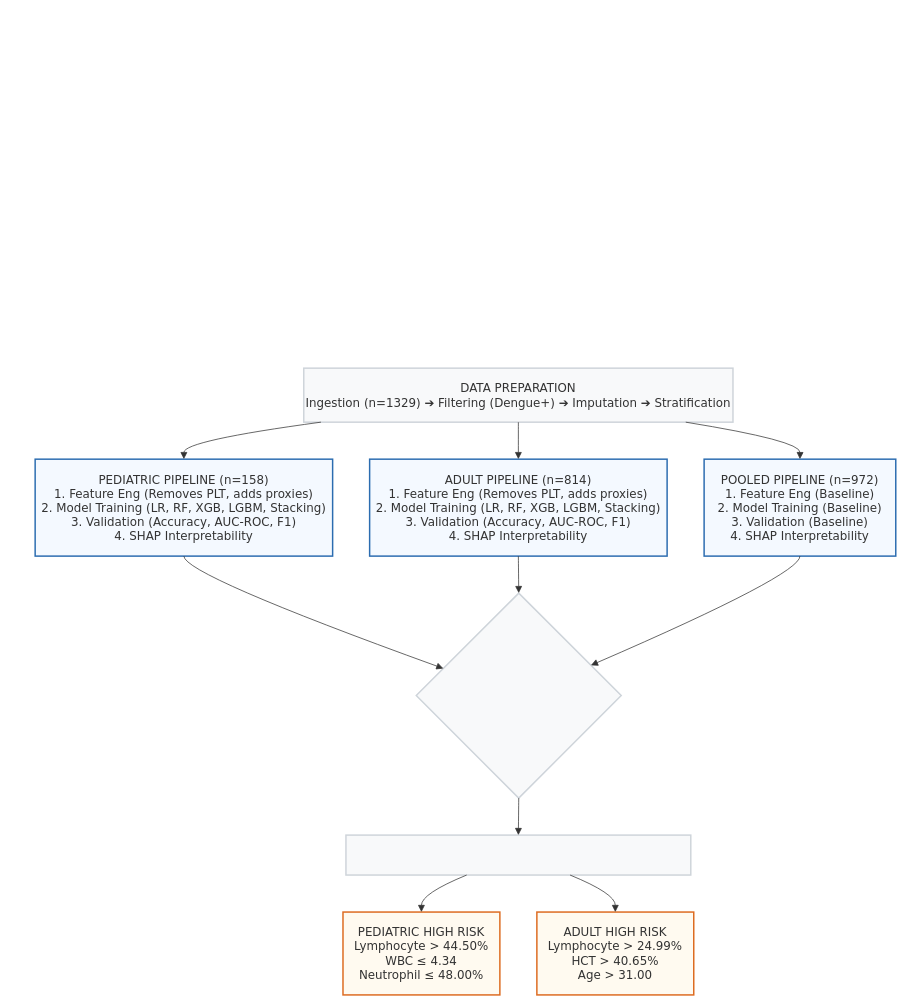
This 909x1008 diagram has some shape labels left out. Here are the shapes that lost their labels. From the top down, the centre of each, then its label:
At (x=518, y=695): "Kendall's tau-b = 0.900 Cohort Divergence".
At (x=518, y=854): "Programmatic Cutoff Extraction (Shallow Decision Trees)".
